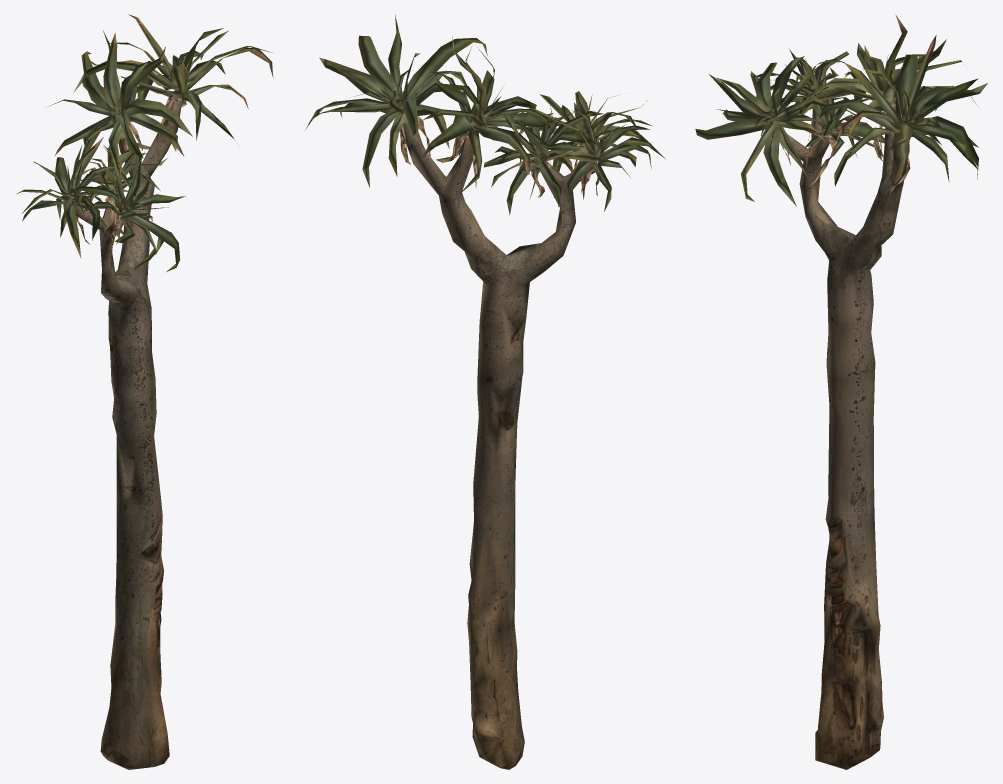
Rendered from quiver.glb.
3 views of the same model, side by side, from view 1: azimuth 30°, elevation 25°; view 2: azimuth 150°, elevation 25°; view 3: azimuth 270°, elevation 25° (orthographic). The views are drawn at different scales.
Visible parts, largest first — view 1: lod1; view 2: lod1; view 3: lod1.
Part boxes in pixels (left/top/right/bottom): lod1: left=16, top=14, right=273, bottom=769; lod1: left=305, top=15, right=665, bottom=769; lod1: left=695, top=14, right=987, bottom=769.
Bounding box in the file's own units: 2.6 × 6 × 2.12.
Materials: 2 (2 with a texture image).
